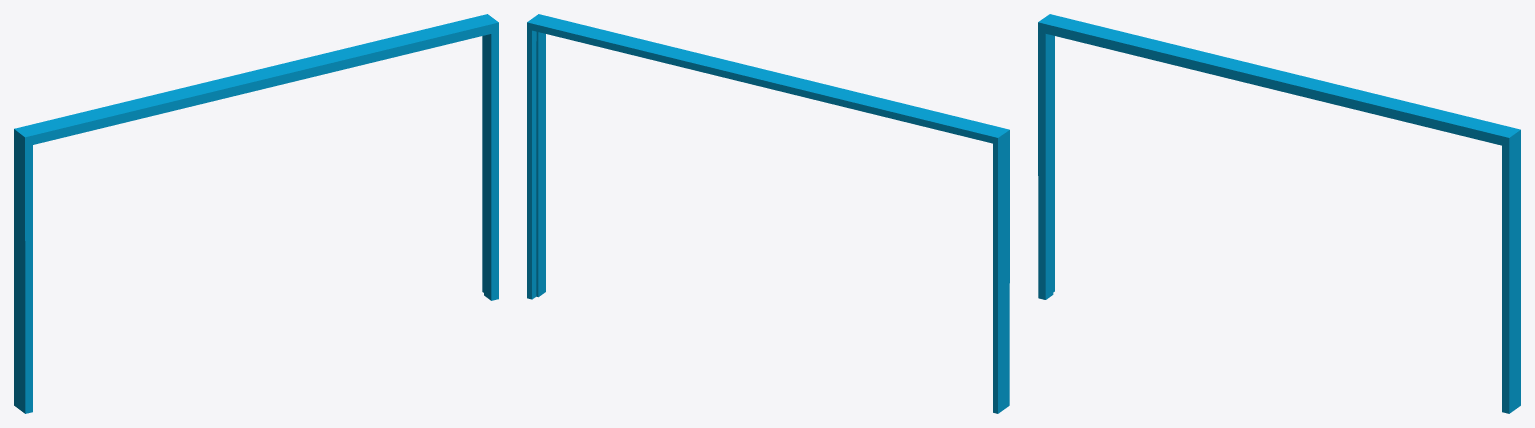
The model's file is Garage_H_Door_Frame.fbx.
The picture shows the model from 3 angles, left to right: view 1: azimuth 30°, elevation 25°; view 2: azimuth 150°, elevation 25°; view 3: azimuth 330°, elevation 25°; orthographic projection.
Visible parts, largest first — view 1: Garage_H_Door_Frame; view 2: Garage_H_Door_Frame; view 3: Garage_H_Door_Frame.
Part boxes in pixels (<box>): Garage_H_Door_Frame: <box>14,14,498,413</box>; Garage_H_Door_Frame: <box>527,14,1009,413</box>; Garage_H_Door_Frame: <box>1038,14,1520,413</box>.
Bounding box in the file's own units: 535 × 299 × 23.96.
